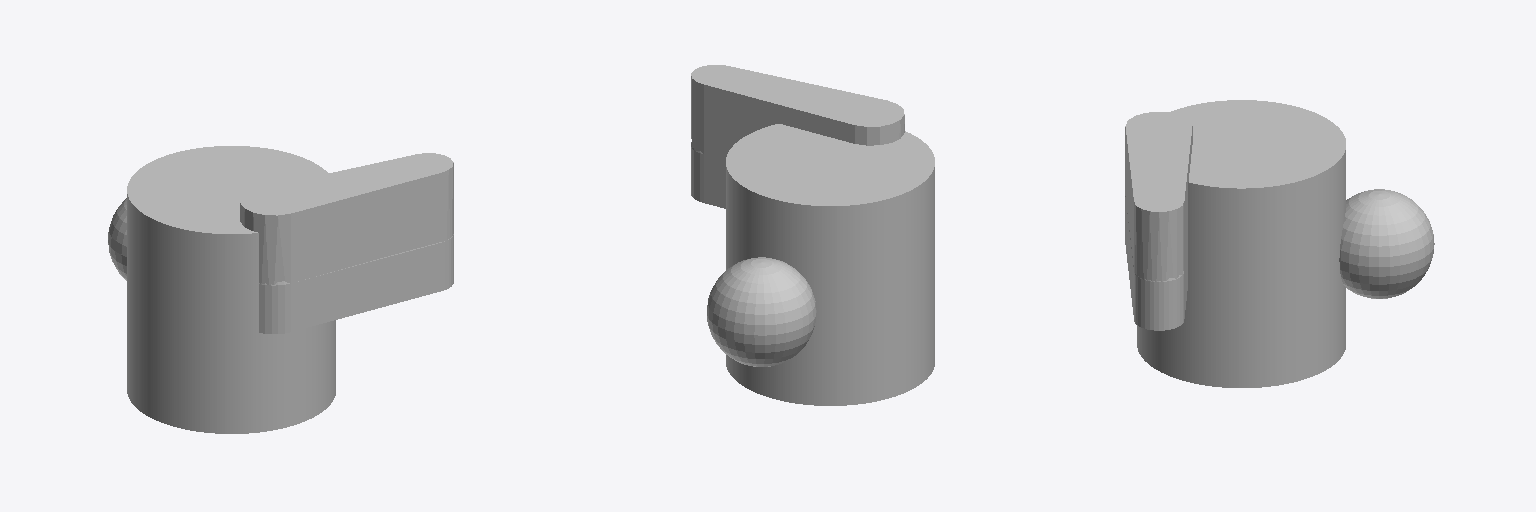
Rendered from paddlecollider.obj.
3 renders of one model, left to right at view 1: azimuth 30°, elevation 25°; view 2: azimuth 150°, elevation 25°; view 3: azimuth 270°, elevation 25°, orthographic.
Parts seen in each view (by area): view 1: Cylinder_Cylinder.002, PaddleCollider_Cylinder.001, Paddle_Cylinder.005, Sphere; view 2: Cylinder_Cylinder.002, PaddleCollider_Cylinder.001, Sphere, Paddle_Cylinder.005; view 3: Cylinder_Cylinder.002, PaddleCollider_Cylinder.001, Sphere, Paddle_Cylinder.005.
Boxes of the visible parts, <box> form: Cylinder_Cylinder.002: <box>127,146,335,433</box>; PaddleCollider_Cylinder.001: <box>240,153,453,284</box>; Paddle_Cylinder.005: <box>259,234,453,333</box>; Sphere: <box>108,198,126,280</box>; Cylinder_Cylinder.002: <box>726,124,934,405</box>; PaddleCollider_Cylinder.001: <box>691,65,904,208</box>; Sphere: <box>707,257,816,366</box>; Paddle_Cylinder.005: <box>691,142,725,208</box>; Cylinder_Cylinder.002: <box>1137,100,1345,387</box>; PaddleCollider_Cylinder.001: <box>1125,112,1192,310</box>; Sphere: <box>1339,189,1434,298</box>; Paddle_Cylinder.005: <box>1125,196,1187,330</box>.
Size of the model in its own units: 2.81 by 2.19 by 2.81.